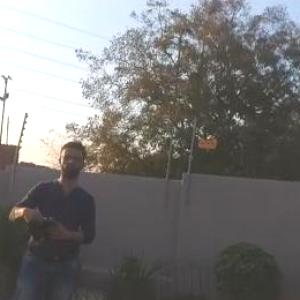follow: (0, 131, 102, 299)
